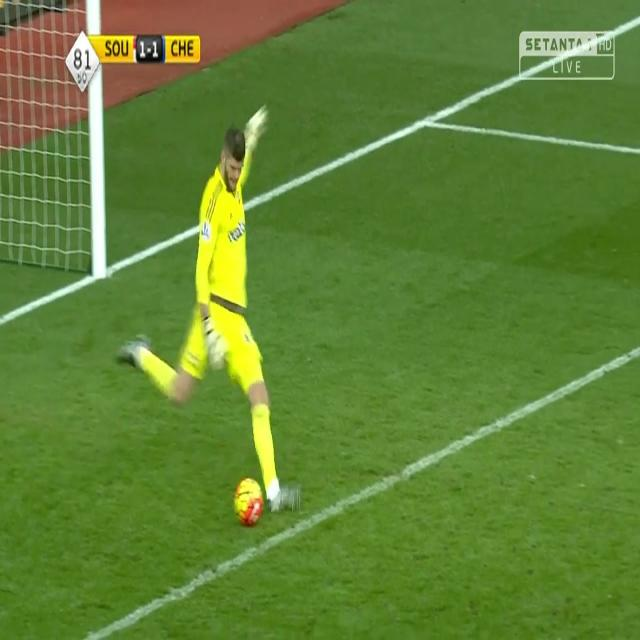Ball: (232, 474, 264, 530)
Goalkeeper: (113, 98, 302, 514)
